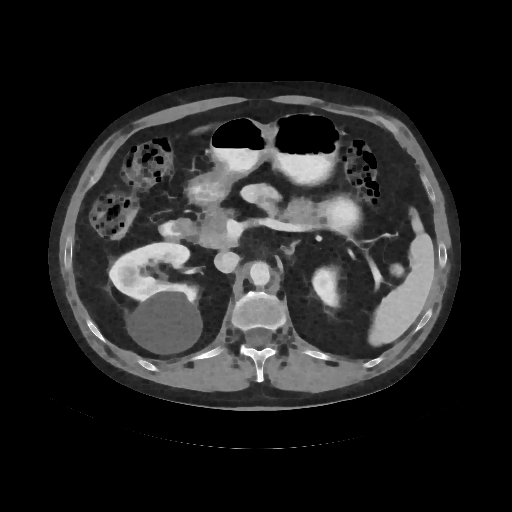Lesion: (121, 288, 206, 356)
